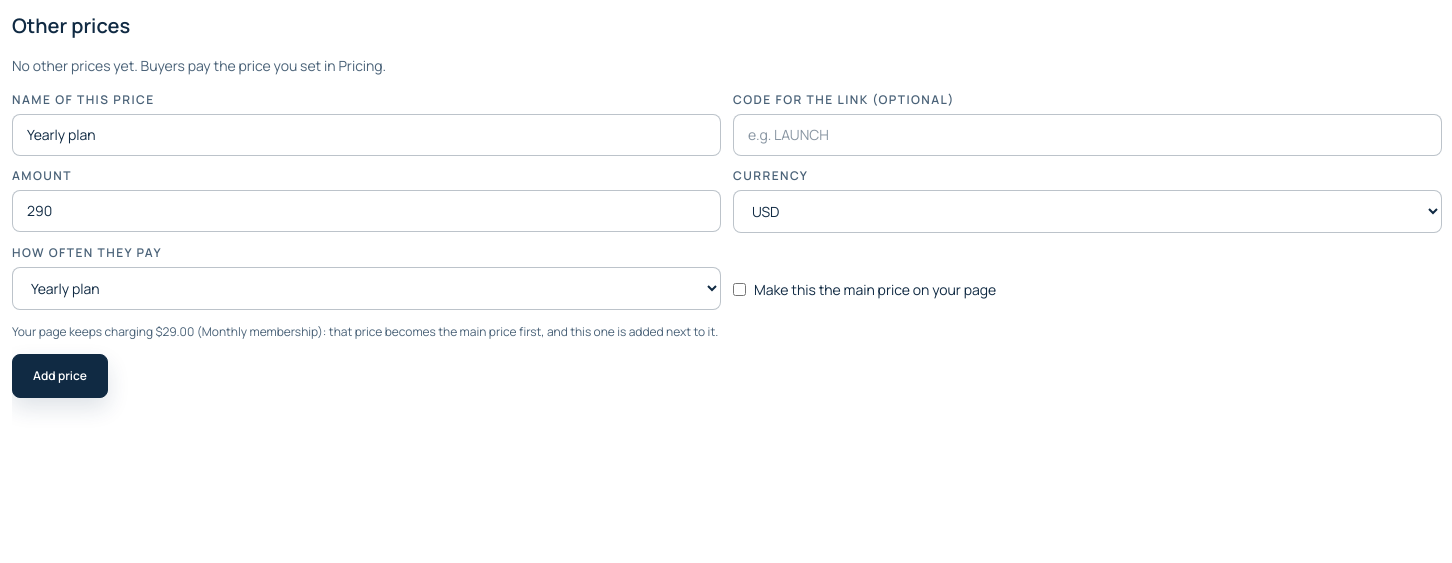
Test: plano anual sem preco principal: o mensal vira o principal antes e o checkout segue no mensal
Step 1. Click the button "Add price" → (60, 376), box [12,354,108,398]
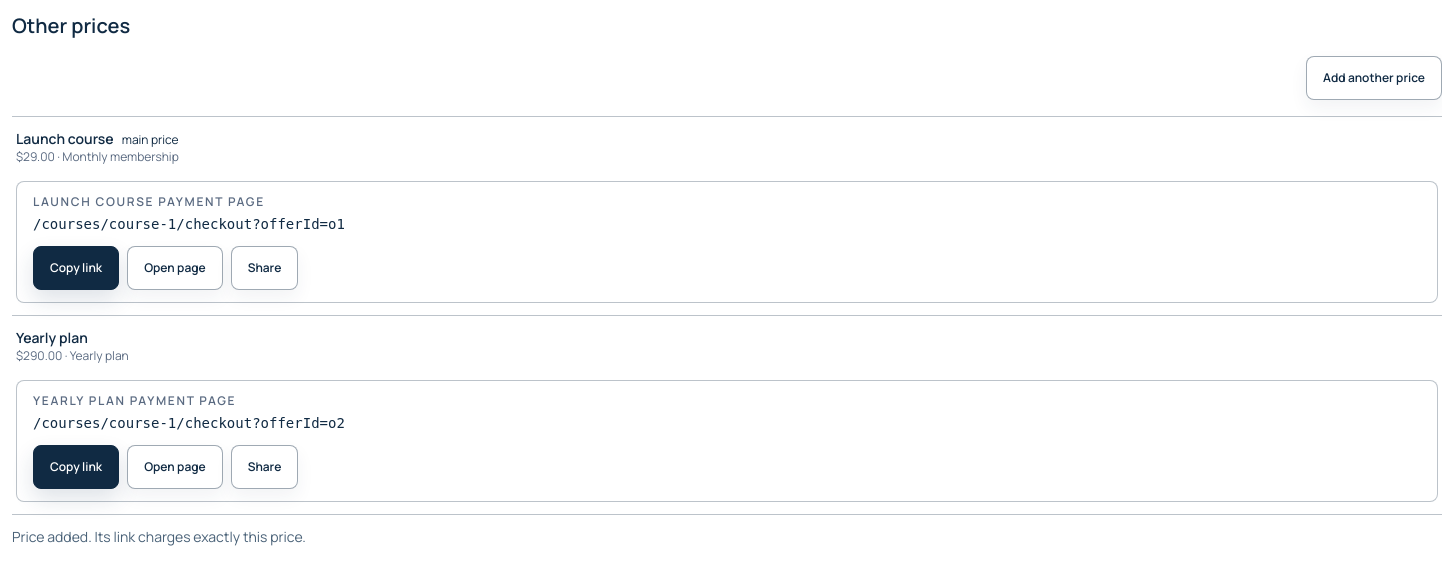
Expected: the text "Price added. Its link charges exactly this price." is shown, [12,527,306,546]
